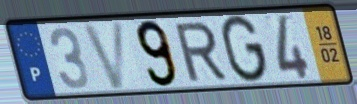3: (49, 26, 91, 91)
4: (274, 12, 312, 81)
9: (133, 18, 180, 89)
G: (219, 13, 270, 85)
R: (171, 19, 230, 84)
V: (80, 19, 128, 93)
